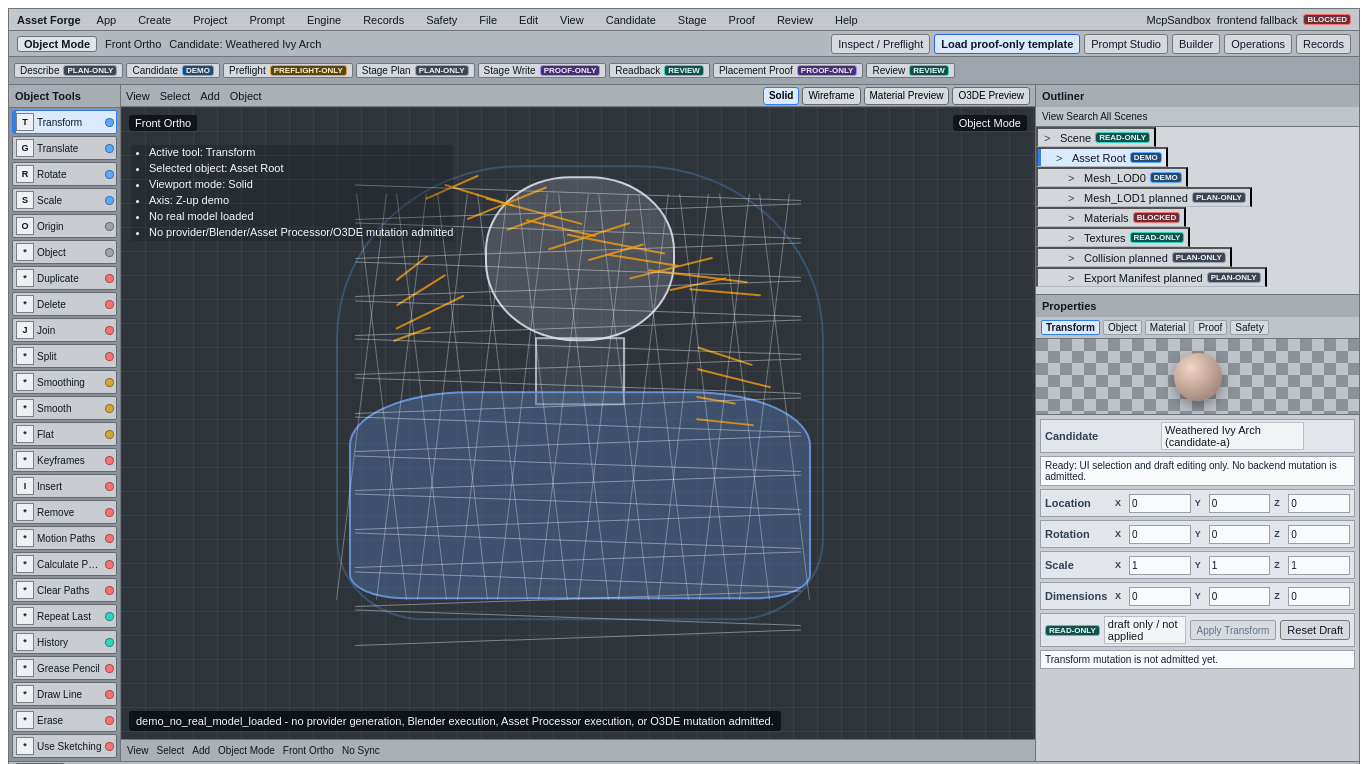
Test case: AssetForgeBlenderCockpit › updates transform fields as local draft values and keeps apply blocked
Replace the text in the field named "Location X" with "12.5" at (1160, 503), box [1129,494,1191,512]
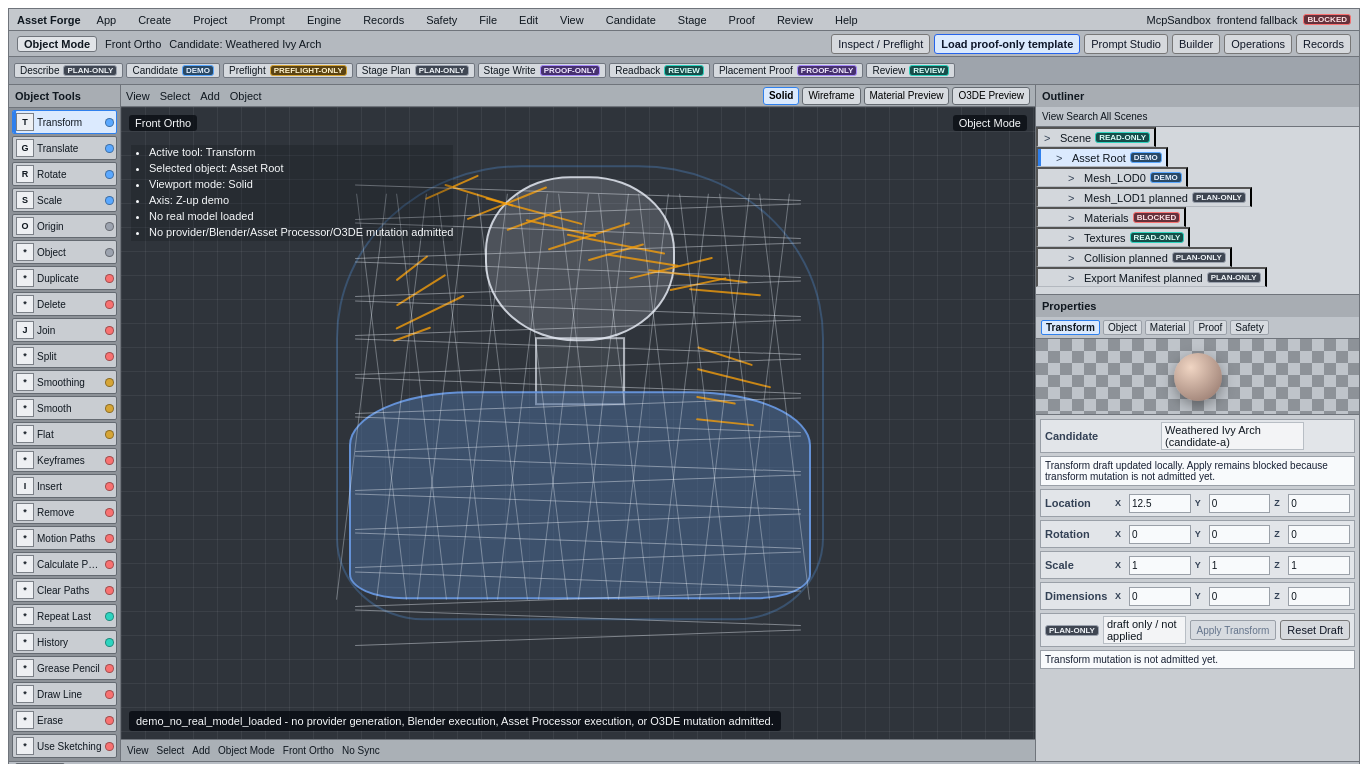
Expected: the text "draft only / not applied" is shown, [1103,616,1186,644]
Expected: the button "Apply Transform" is disabled, [1190,620,1276,640]
Click the button "Reset Draft".
click(1315, 630)  # box [1280,620,1350,640]
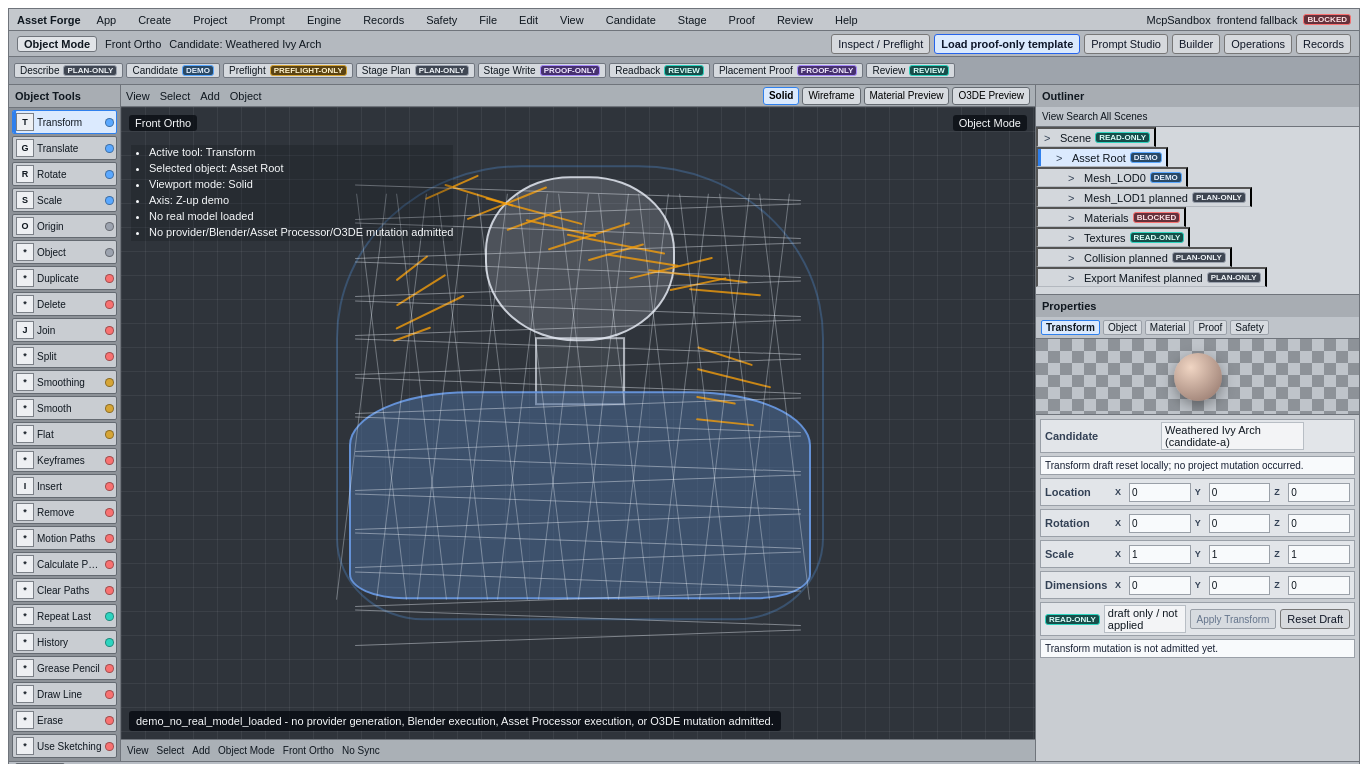
Expected: the field named "Location X" holds "0", [1129,482,1191,502]
